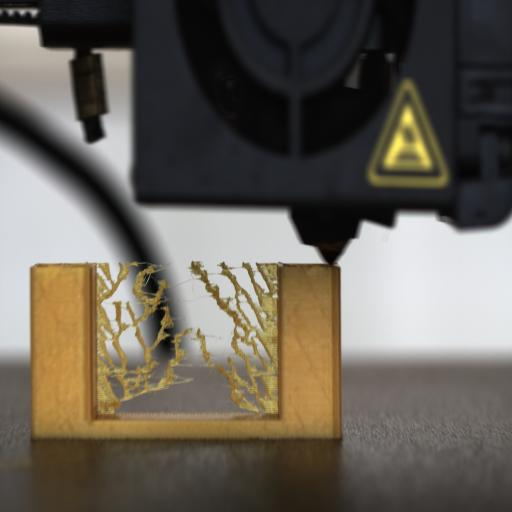stringing: (94, 258, 279, 412)
